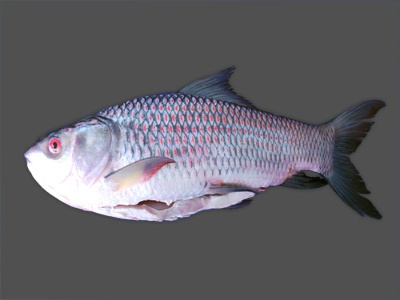rohu: (11, 63, 398, 236)
